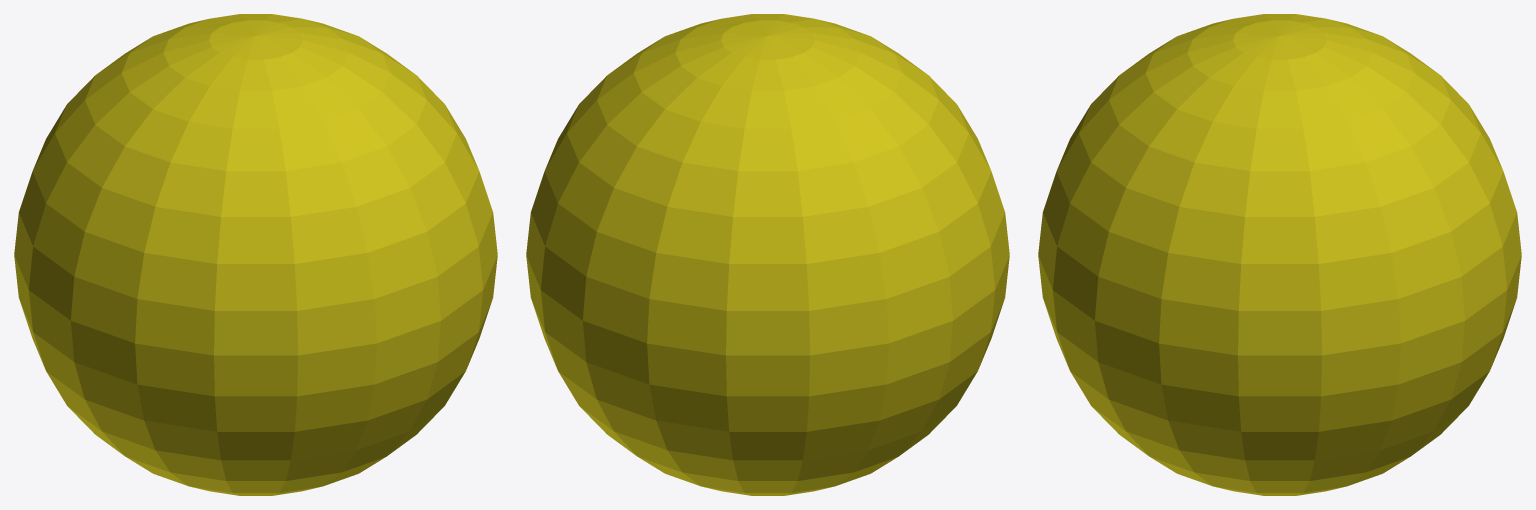
The model's file is Player_Ball.obj.
The picture shows the model from 3 angles, left to right: view 1: azimuth 30°, elevation 25°; view 2: azimuth 150°, elevation 25°; view 3: azimuth 270°, elevation 25°; orthographic projection.
Parts seen in each view (by area): view 1: Sphere; view 2: Sphere; view 3: Sphere.
Boxes of the visible parts, <box> form: Sphere: <box>14,14,497,495</box>; Sphere: <box>526,14,1009,495</box>; Sphere: <box>1038,14,1521,495</box>.
Bounding box in the file's own units: 1.97 × 2 × 2.
